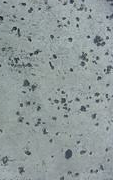Spalling: (1, 1, 113, 180)
